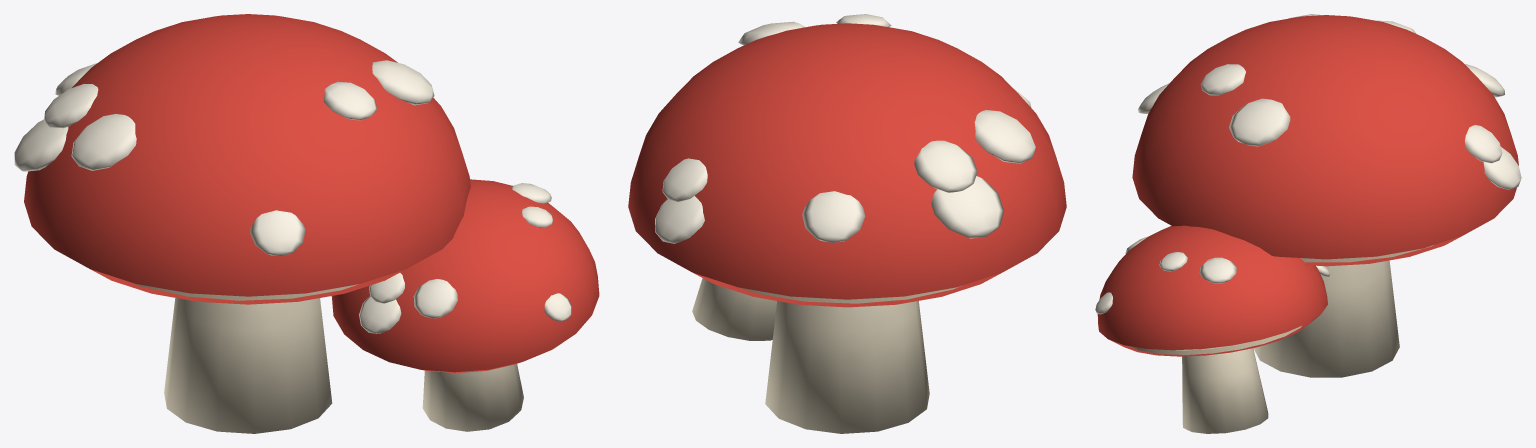
The model's file is red_cap.glb.
The picture shows the model from 3 angles, left to right: view 1: azimuth 30°, elevation 25°; view 2: azimuth 150°, elevation 25°; view 3: azimuth 270°, elevation 25°; orthographic projection. The views are drawn at different scales.
Parts seen in each view (by area): view 1: mushroom (×2); view 2: mushroom (×2); view 3: mushroom (×2).
Part boxes in pixels (bbox=[...]): mushroom (×2): bbox=[14, 14, 599, 433]; mushroom (×2): bbox=[628, 14, 1066, 433]; mushroom (×2): bbox=[1095, 14, 1521, 433].
Bounding box in the file's own units: 0.1378 × 0.1055 × 0.1275.
4 materials, 1 textured.
